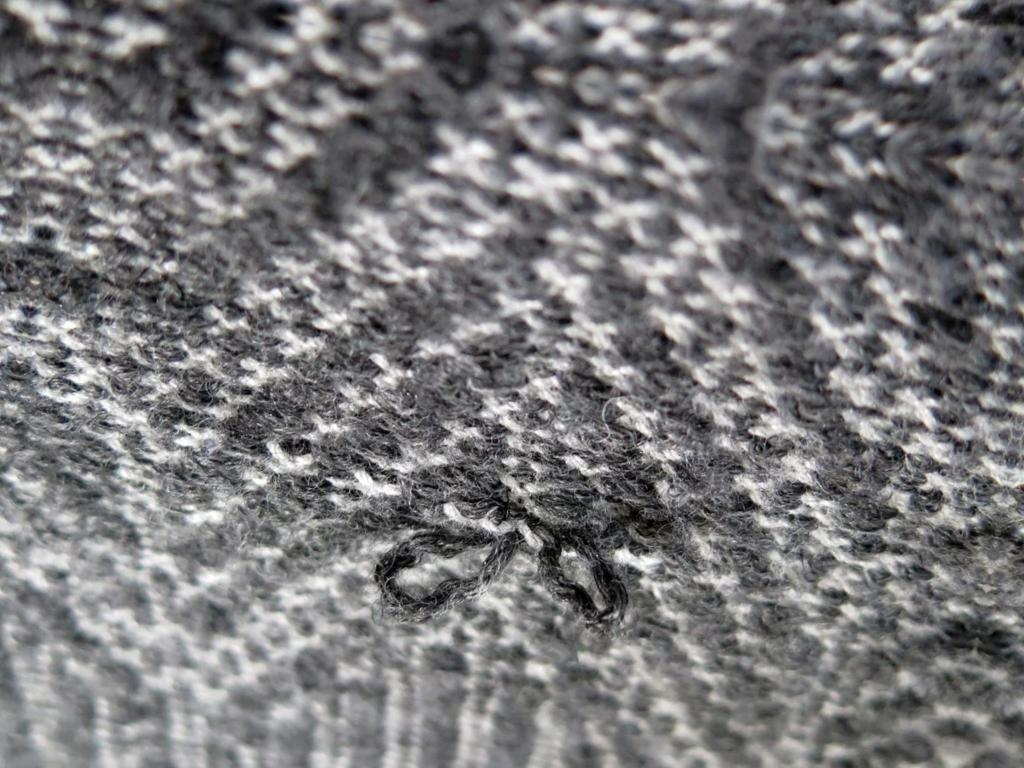snag: (377, 517, 519, 625), (537, 523, 649, 650)
